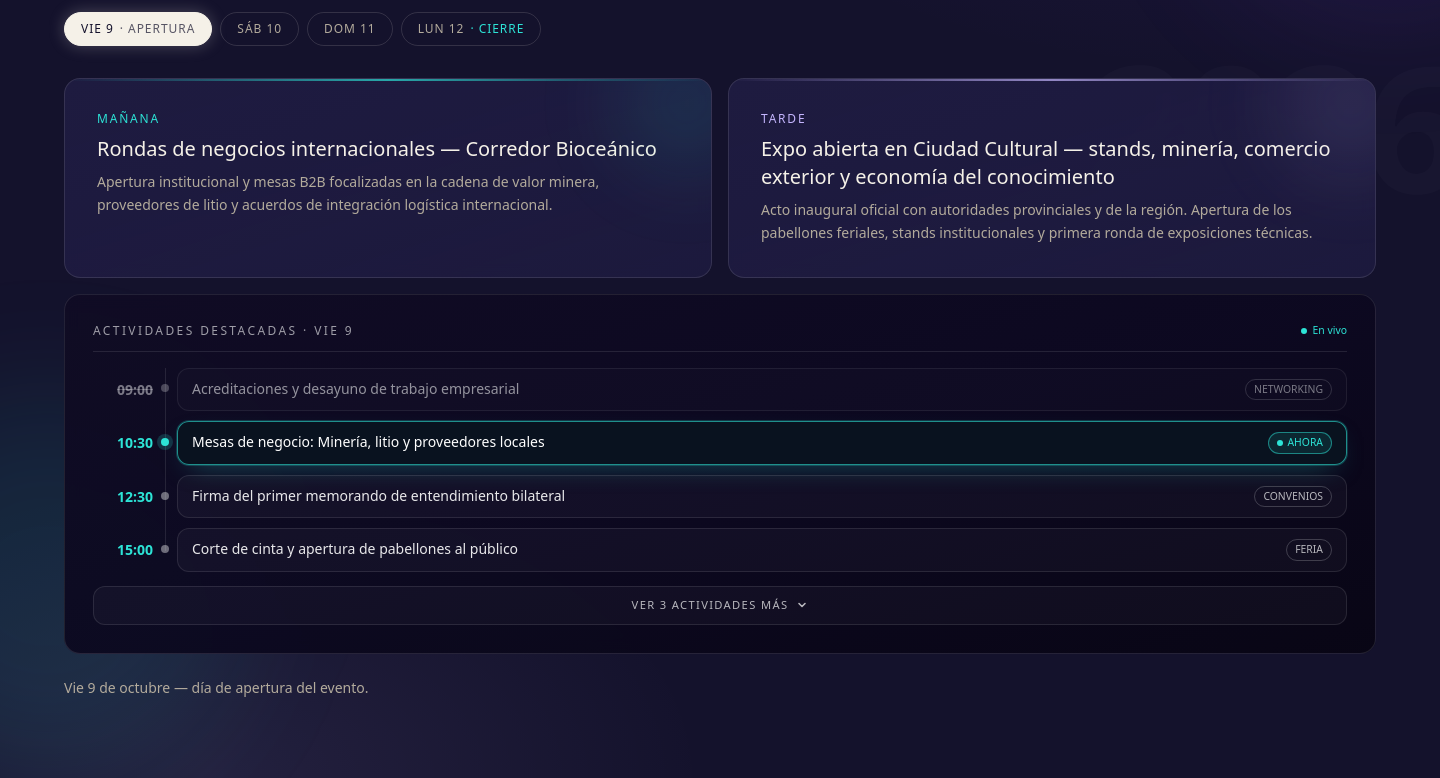
Test: ProgramSection › recorta las actividades del día y despliega el resto con el botón
(page scrolled)
Expected: the text "Acreditaciones y desayuno de trabajo empresarial" is shown, [192, 378, 520, 398]
Expected: the text "Mesas de negocio: Minería, litio y proveedores locales" is shown, [192, 432, 545, 451]
Click the button "Ver 3 actividades más". click: (720, 605)
box: [93, 586, 1347, 625]
(page scrolled)
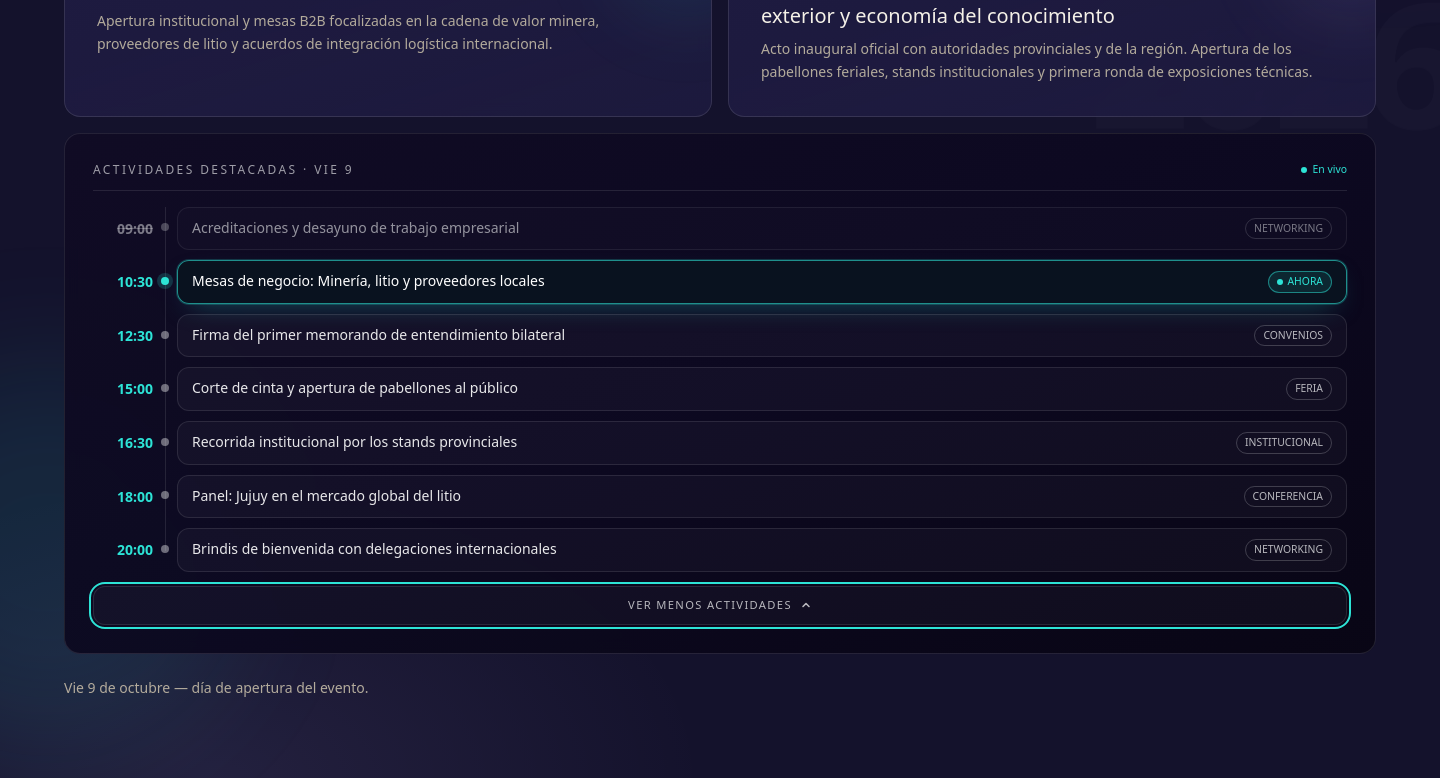
Now the text "Recorrida institucional por los stands provinciales" is shown, box [192, 432, 517, 451]
Now the text "Panel: Jujuy en el mercado global del litio" is shown, box [192, 486, 461, 505]
Now the text "Brindis de bienvenida con delegaciones internacionales" is shown, box [192, 539, 557, 558]
